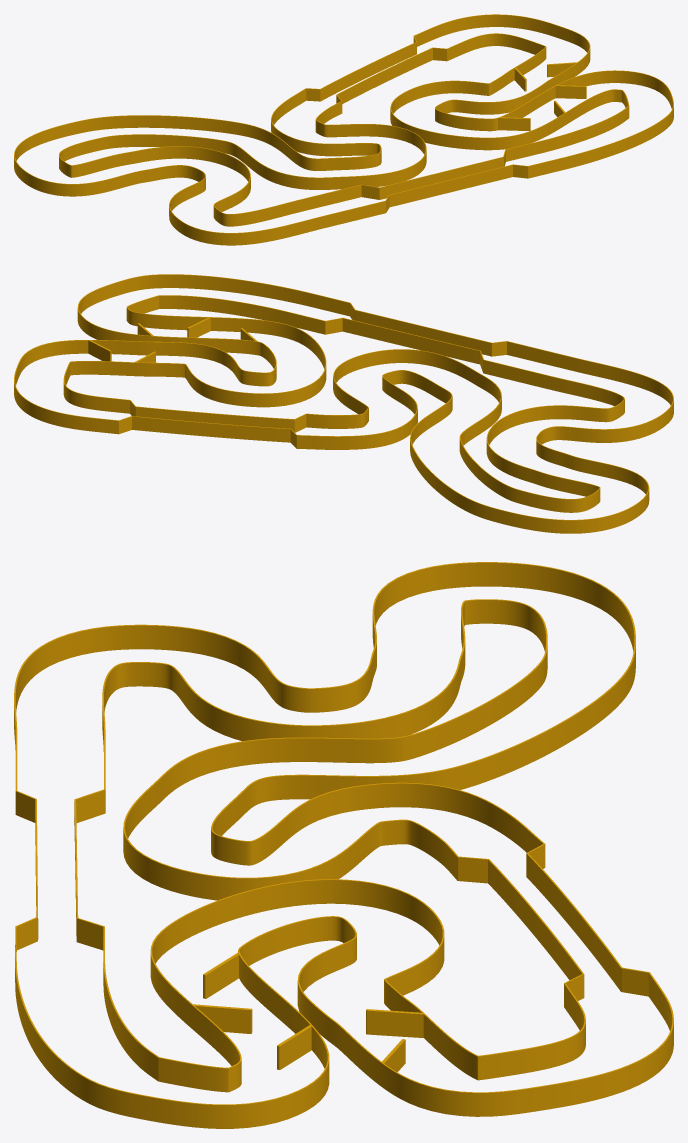
The model's file is WALLS.fbx.
3 renders of one model, top to bottom at view 1: azimuth 30°, elevation 25°; view 2: azimuth 150°, elevation 25°; view 3: azimuth 270°, elevation 25°, orthographic. The views are drawn at different scales.
Visible parts, largest first — view 1: THICK_WALLS, Cube.001; view 2: THICK_WALLS, Cube.001; view 3: THICK_WALLS, Cube.001.
Boxes of the visible parts, x1,y1,x2,y2 form: THICK_WALLS: (14, 14, 673, 245); Cube.001: (498, 63, 586, 131); THICK_WALLS: (14, 274, 673, 533); Cube.001: (88, 317, 254, 362); THICK_WALLS: (14, 562, 673, 1128); Cube.001: (193, 955, 423, 1071).
Bounding box in the file's own units: 4012 × 7812 × 161.
